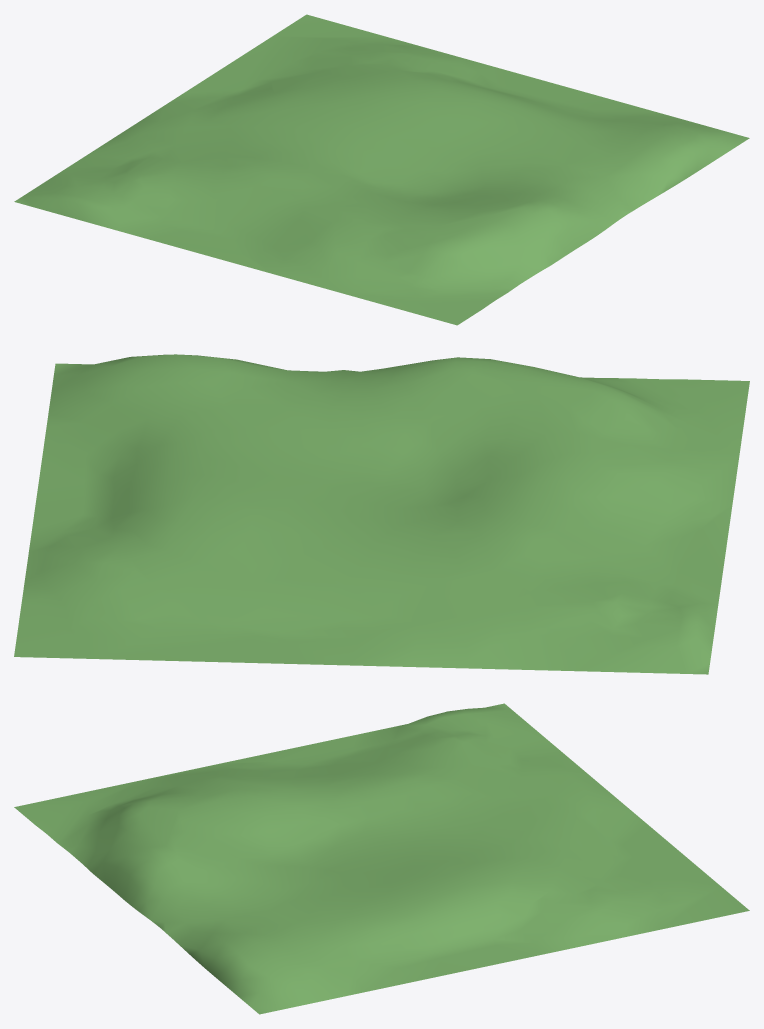
File: SM_Terrain_05.obj
The picture shows the model from 3 angles, top to bottom: view 1: azimuth 30°, elevation 25°; view 2: azimuth 150°, elevation 25°; view 3: azimuth 270°, elevation 25°; orthographic projection. The views are drawn at different scales.
Parts seen in each view (by area): view 1: SM_Terrain_05; view 2: SM_Terrain_05; view 3: SM_Terrain_05.
Part boxes in pixels (x1=…): SM_Terrain_05: x1=14, y1=14, x2=749, y2=325; SM_Terrain_05: x1=14, y1=354, x2=749, y2=674; SM_Terrain_05: x1=14, y1=703, x2=749, y2=1014.
Size of the model in its own units: 14.61 by 0.6797 by 14.61.
1 material, 1 textured.
